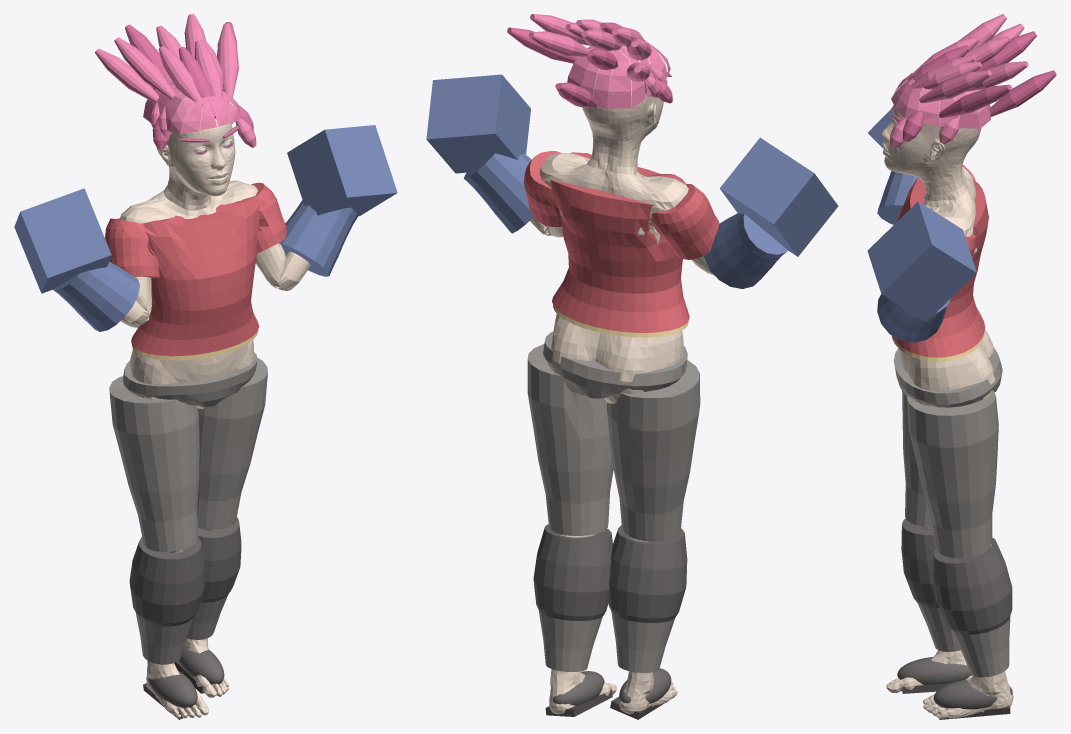
File: example-vi.glb
The picture shows the model from 3 angles, left to right: view 1: azimuth 30°, elevation 25°; view 2: azimuth 150°, elevation 25°; view 3: azimuth 270°, elevation 25°; orthographic projection. The views are drawn at different scales.
Visible parts, largest first — view 1: jacket, body, pants_thigh_R, pants_thigh_L, gauntlet_L, gauntlet_R, boot_R, gauntlet_cuff_R, gauntlet_cuff_L, scalp, pants_hips, boot_L (+13 smaller); view 2: body, jacket, pants_thigh_R, pants_thigh_L, gauntlet_L, gauntlet_R, boot_L, boot_R, gauntlet_cuff_R, gauntlet_cuff_L, scalp, pants_hips (+11 smaller); view 3: body, pants_thigh_L, gauntlet_L, boot_L, jacket, boot_R, scalp, pants_hips, pants_shin_L, gauntlet_cuff_L, pants_thigh_R, shoe_R (+19 smaller).
Part boxes in pixels (left/top/right/bottom): jacket: left=131, top=196, right=259, bottom=356; body: left=120, top=92, right=310, bottom=718; pants_thigh_R: left=109, top=376, right=199, bottom=551; pants_thigh_L: left=197, top=358, right=267, bottom=529; gauntlet_L: left=287, top=125, right=397, bottom=216; gauntlet_R: left=14, top=188, right=111, bottom=293; boot_R: left=129, top=537, right=204, bottom=626; gauntlet_cuff_R: left=53, top=261, right=139, bottom=331; gauntlet_cuff_L: left=279, top=200, right=357, bottom=276; scalp: left=143, top=81, right=241, bottom=133; pants_hips: left=123, top=352, right=257, bottom=407; boot_L: left=198, top=517, right=241, bottom=602; body: left=530, top=46, right=715, bottom=714; jacket: left=550, top=152, right=689, bottom=332; pants_thigh_R: left=607, top=360, right=700, bottom=541; pants_thigh_L: left=527, top=344, right=613, bottom=535; gauntlet_L: left=426, top=74, right=530, bottom=173; gauntlet_R: left=720, top=137, right=838, bottom=256; boot_L: left=533, top=524, right=612, bottom=620; boot_R: left=608, top=525, right=687, bottom=622; gauntlet_cuff_R: left=704, top=213, right=787, bottom=288; gauntlet_cuff_L: left=463, top=153, right=533, bottom=233; scalp: left=567, top=39, right=670, bottom=108; pants_hips: left=543, top=331, right=687, bottom=398; body: left=880, top=92, right=1013, bottom=718; pants_thigh_L: left=907, top=391, right=998, bottom=558; gauntlet_L: left=867, top=201, right=976, bottom=321; boot_L: left=933, top=537, right=1012, bottom=634; jacket: left=892, top=178, right=988, bottom=357; boot_R: left=901, top=518, right=939, bottom=608; scalp: left=891, top=73, right=990, bottom=128; pants_hips: left=893, top=347, right=1002, bottom=407; pants_shin_L: left=951, top=616, right=1010, bottom=677; gauntlet_cuff_L: left=877, top=294, right=951, bottom=342; pants_thigh_R: left=902, top=390, right=932, bottom=527; shoe_R: left=897, top=657, right=972, bottom=684.
Bounding box in the file's own units: 2 × 3.51 × 0.903.
